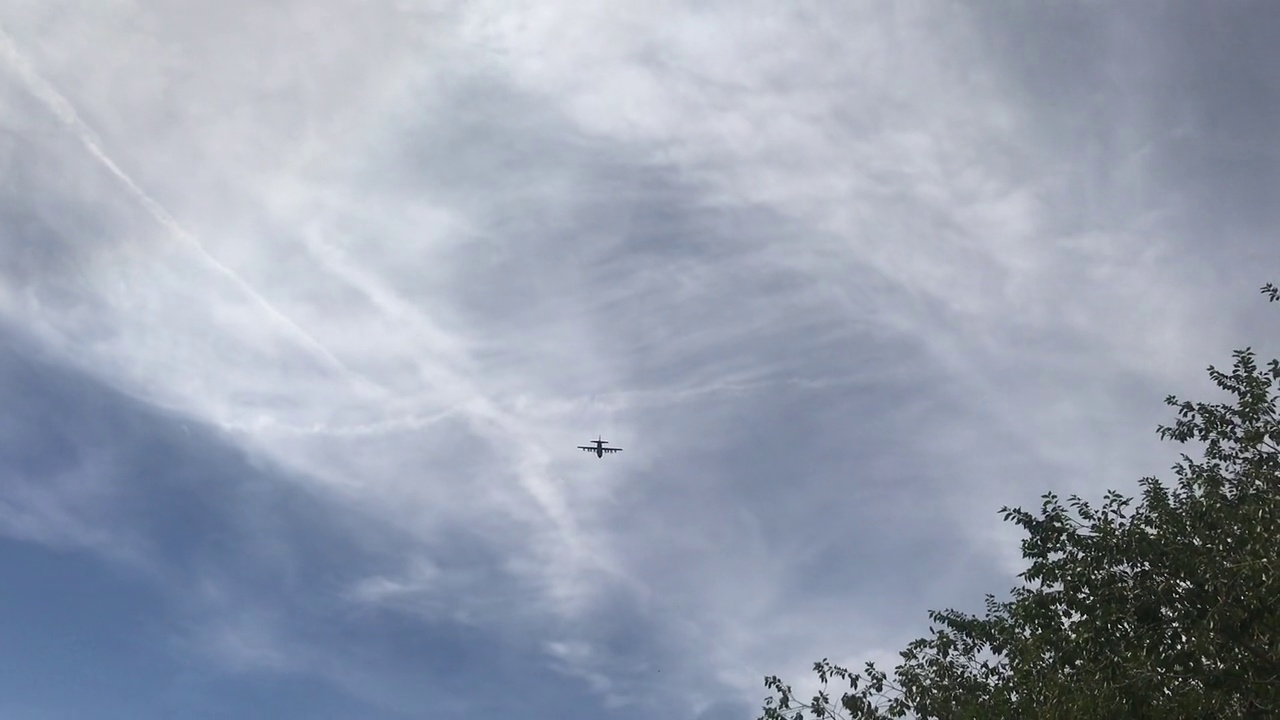plane: (577, 434, 621, 459)
